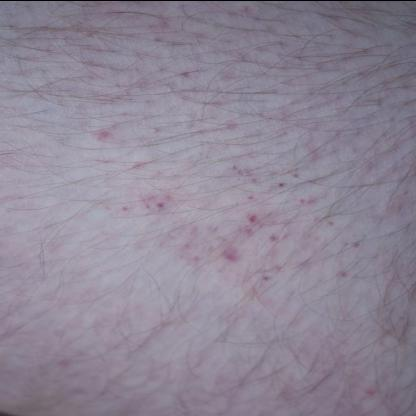Bed Bug: (113, 190, 178, 215), (177, 222, 203, 264), (229, 161, 264, 186), (125, 160, 168, 178), (310, 210, 334, 242), (267, 170, 299, 192), (238, 210, 261, 240), (88, 124, 116, 145), (256, 264, 285, 284), (214, 245, 244, 264), (144, 13, 174, 30), (221, 4, 256, 18), (358, 380, 382, 400), (125, 76, 151, 94), (208, 68, 240, 81), (202, 96, 229, 110), (328, 265, 353, 280), (342, 235, 366, 250), (294, 192, 319, 206), (216, 116, 236, 133), (229, 51, 255, 64), (66, 30, 108, 38), (144, 122, 162, 140), (262, 230, 282, 246), (173, 67, 194, 81), (104, 6, 122, 20), (76, 58, 96, 70), (242, 192, 255, 202)
